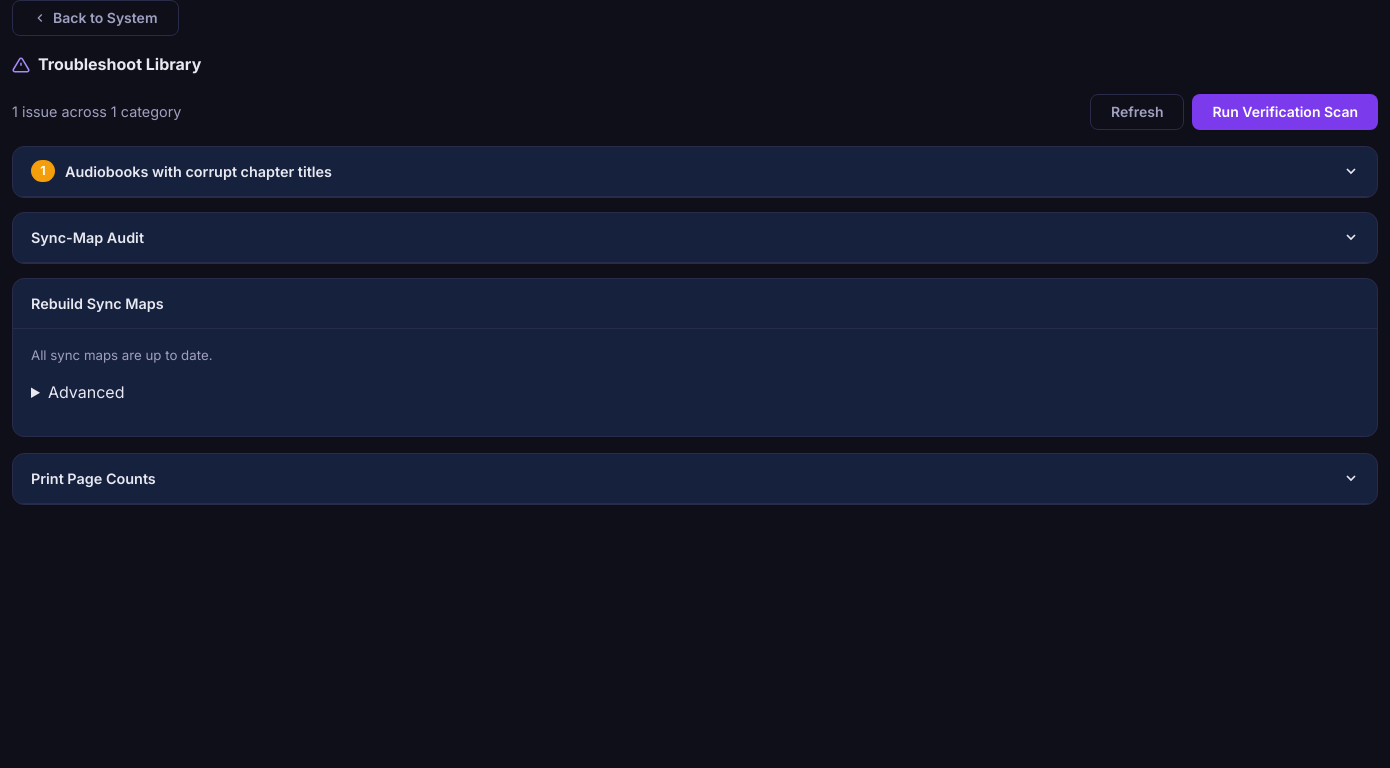
Scenario: TroubleshootPage mobile layout › renders the issue table inside a horizontal-scroll wrapper
Click the heading "1 Audiobooks with corrupt chapter titles" at x=182, y=171, box [31,160,332,182]
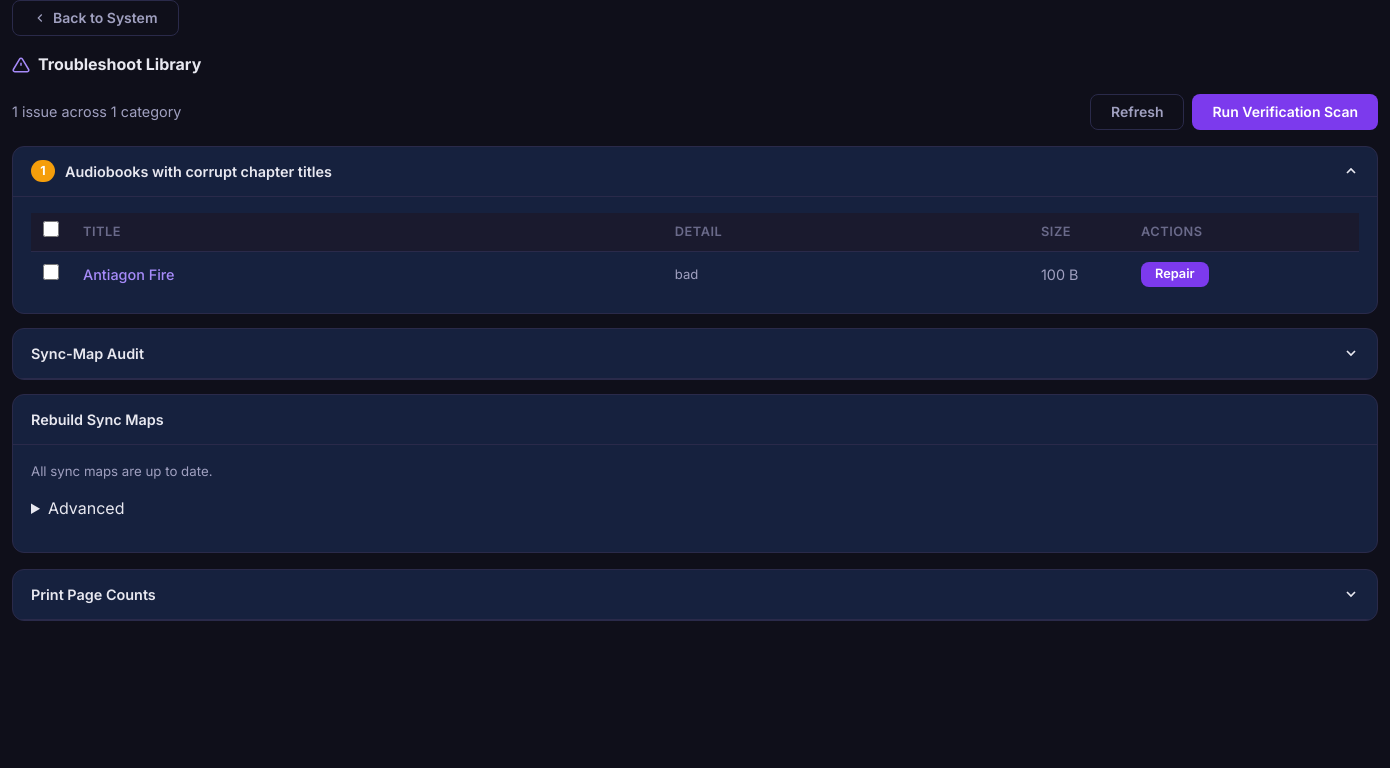
Check: the element showing "Title Detail Size Actions Antiagon Fire bad 100 B Repair" is shown, box [31,213,1359,297]
